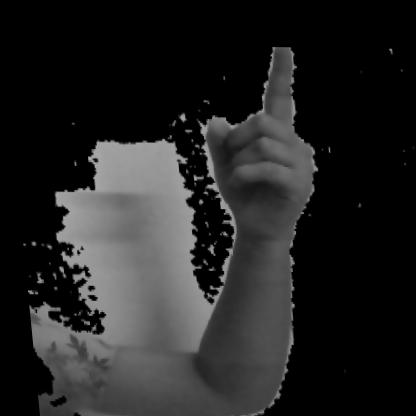one: (132, 11, 361, 371)
